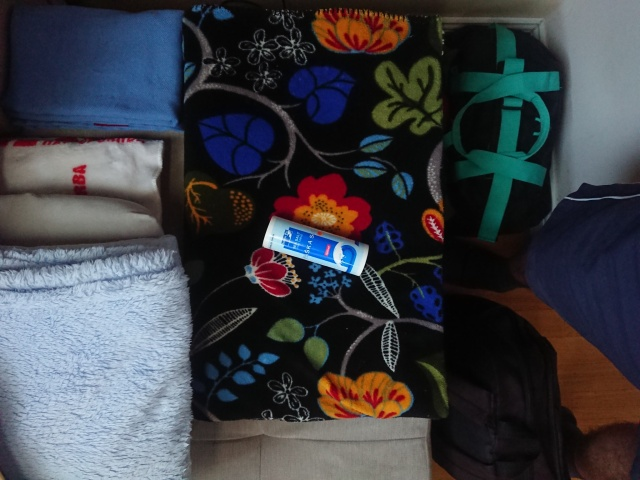Solana Pag Fine Sea Salt 250g: (259, 213, 371, 279)
